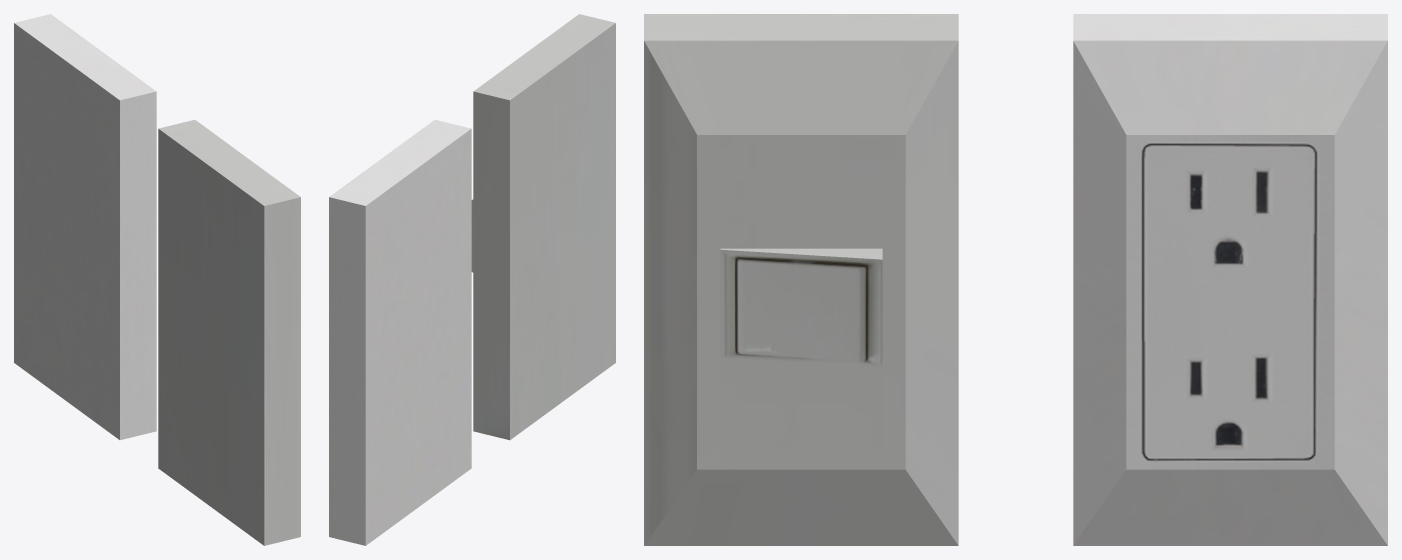
Rendered from Interruptores.dae.
The picture shows the model from 3 angles, left to right: view 1: azimuth 30°, elevation 25°; view 2: azimuth 150°, elevation 25°; view 3: azimuth 270°, elevation 25°; orthographic projection. The views are drawn at different scales.
Parts seen in each view (by area): view 1: Cube.002, Cube; view 2: Cube.002, Cube; view 3: Cube.002, Cube, Cube.001.
Part boxes in pixels (x1=…): Cube.002: x1=14, y1=14, x2=156, y2=440; Cube: x1=158, y1=119, x2=300, y2=545; Cube.002: x1=329, y1=119, x2=471, y2=545; Cube: x1=473, y1=14, x2=615, y2=440; Cube.002: x1=1073, y1=14, x2=1387, y2=545; Cube: x1=644, y1=14, x2=958, y2=545; Cube.001: x1=720, y1=248, x2=882, y2=366.
Bounding box in the file's own units: 0.3963 × 2.67 × 2.
2 materials, 2 textured.
